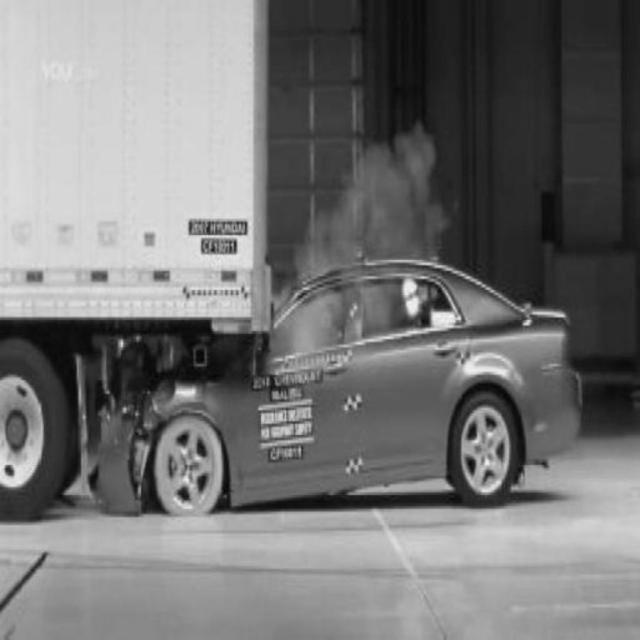accident: (5, 80, 578, 511)
